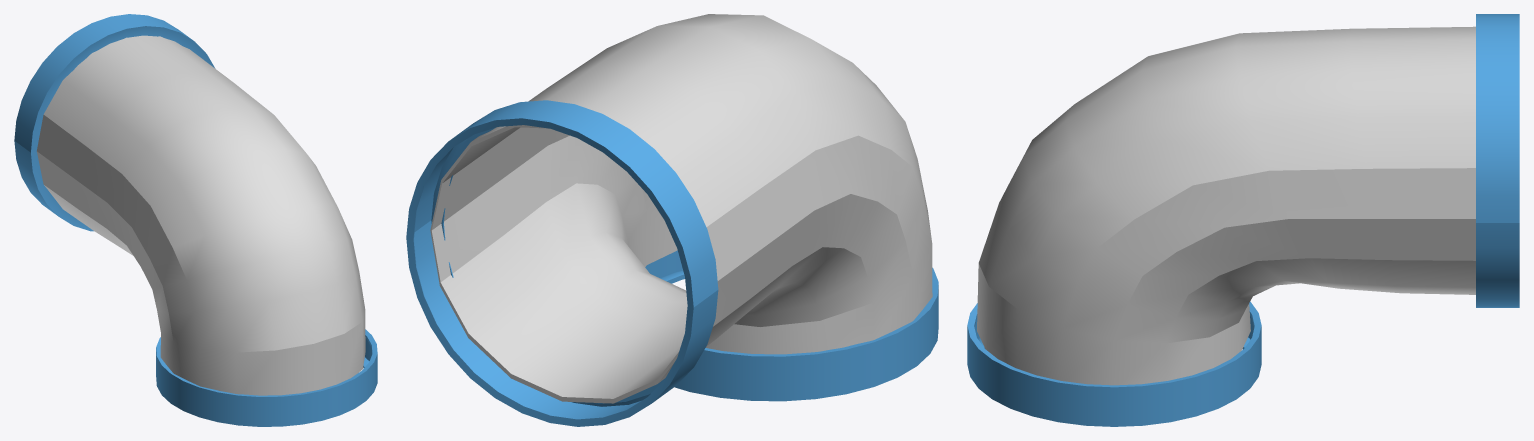
File: connectionpipe.fbx
3 views of the same model, side by side, from view 1: azimuth 30°, elevation 25°; view 2: azimuth 150°, elevation 25°; view 3: azimuth 270°, elevation 25° (orthographic). The views are drawn at different scales.
Visible parts, largest first — view 1: Cylinder.002; view 2: Cylinder.002; view 3: Cylinder.002.
Boxes of the visible parts, bbox=[...] form: Cylinder.002: bbox=[14, 14, 377, 426]; Cylinder.002: bbox=[406, 14, 938, 426]; Cylinder.002: bbox=[967, 14, 1519, 426].
Bounding box in the file's own units: 82.9 × 102 × 153.
